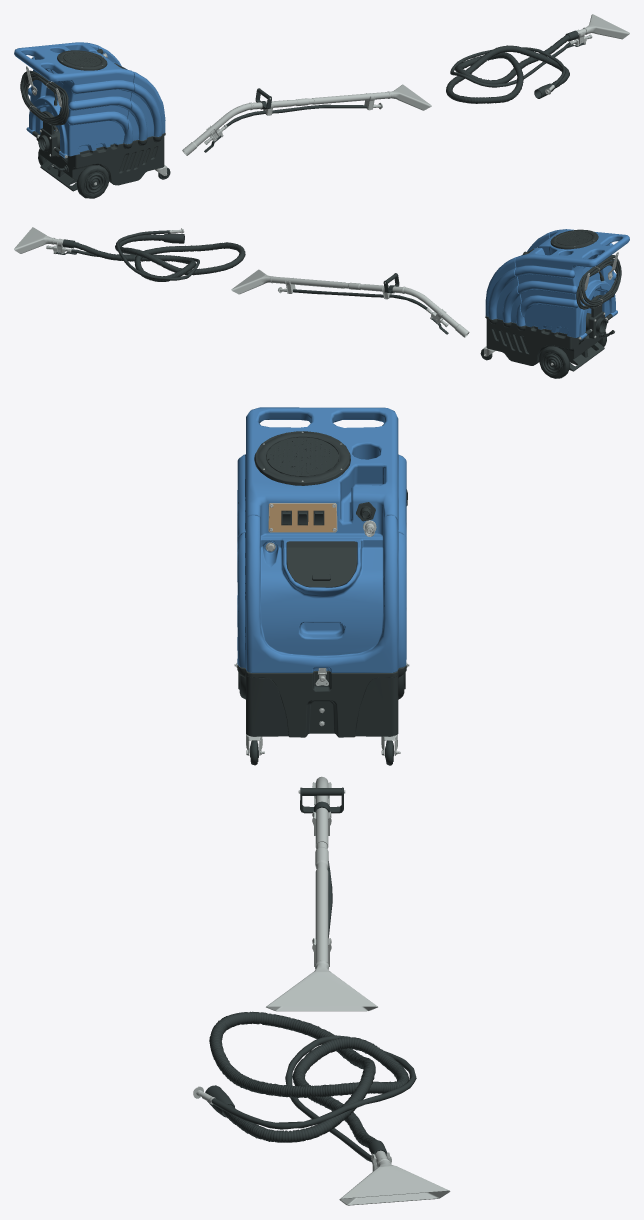
File: serviceTool_extractor_a01.glb
3 views of the same model, one above another, from view 1: azimuth 30°, elevation 25°; view 2: azimuth 150°, elevation 25°; view 3: azimuth 270°, elevation 25° (orthographic). The views are drawn at different scales.
Bounding box in the file's own units: 3.91 × 0.8179 × 0.7559.
